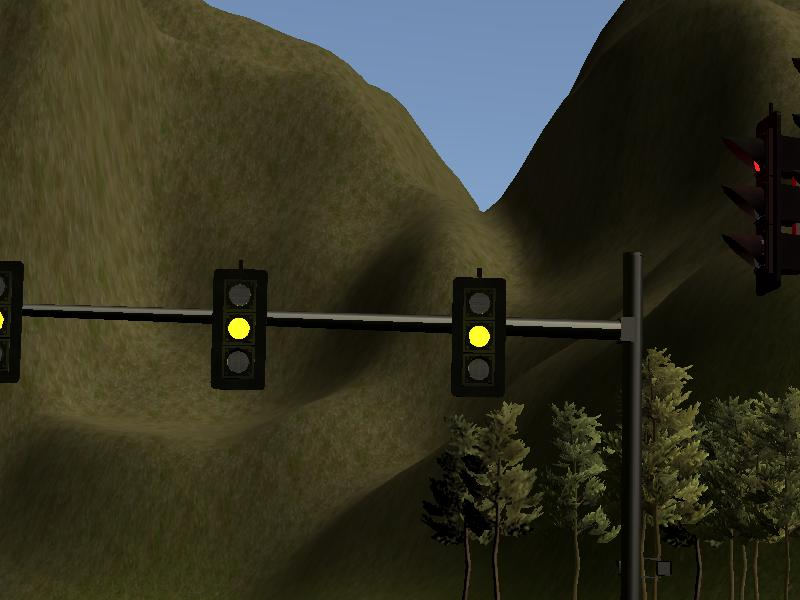not_red: (451, 275, 506, 399), (213, 269, 265, 390)
